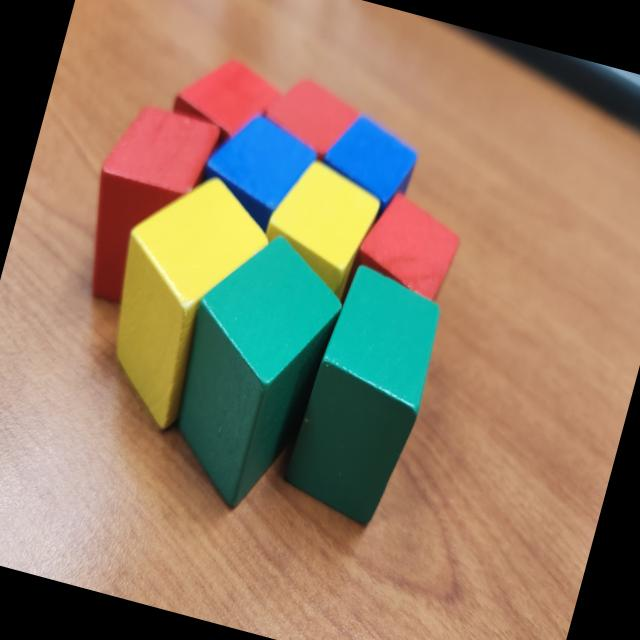blue: (186, 100, 324, 243), (308, 106, 428, 227)
green: (148, 216, 358, 524), (274, 257, 455, 533)
red: (65, 91, 228, 322), (346, 183, 472, 310), (166, 45, 292, 159), (258, 67, 368, 166)
yellow: (80, 160, 282, 448), (250, 150, 388, 310)
